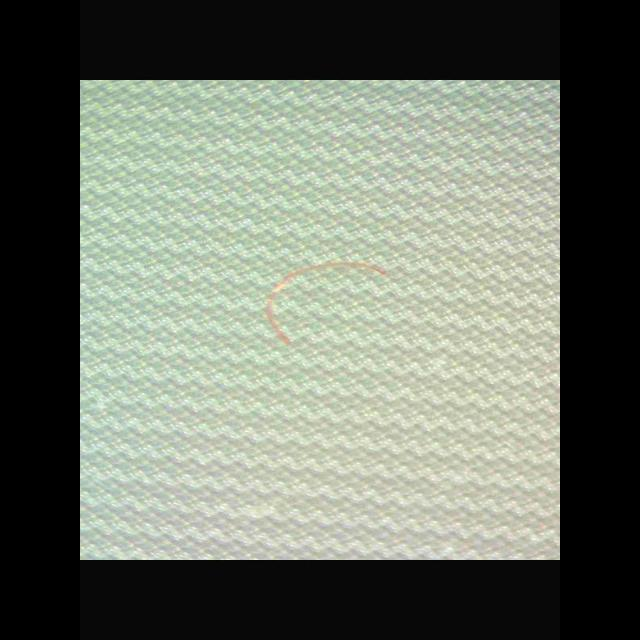Fibre: (254, 258, 391, 348)
